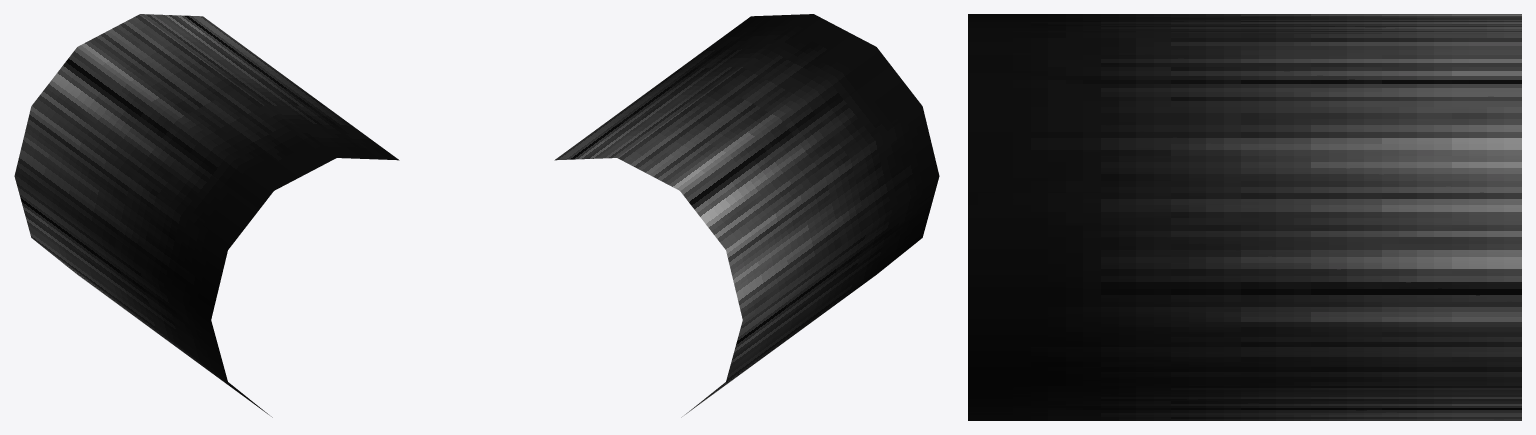
The model's file is Suhwanzin4.glb.
The picture shows the model from 3 angles, left to right: view 1: azimuth 30°, elevation 25°; view 2: azimuth 150°, elevation 25°; view 3: azimuth 270°, elevation 25°; orthographic projection. The views are drawn at different scales.
Parts seen in each view (by area): view 1: model_Suhwanzin4; view 2: model_Suhwanzin4; view 3: model_Suhwanzin4.
Boxes of the visible parts, <box> form: model_Suhwanzin4: <box>14,14,399,417</box>; model_Suhwanzin4: <box>554,14,939,417</box>; model_Suhwanzin4: <box>968,14,1521,420</box>.
Size of the model in its own units: 0.2226 by 0.2226 by 0.3017.
1 material, 1 textured.
